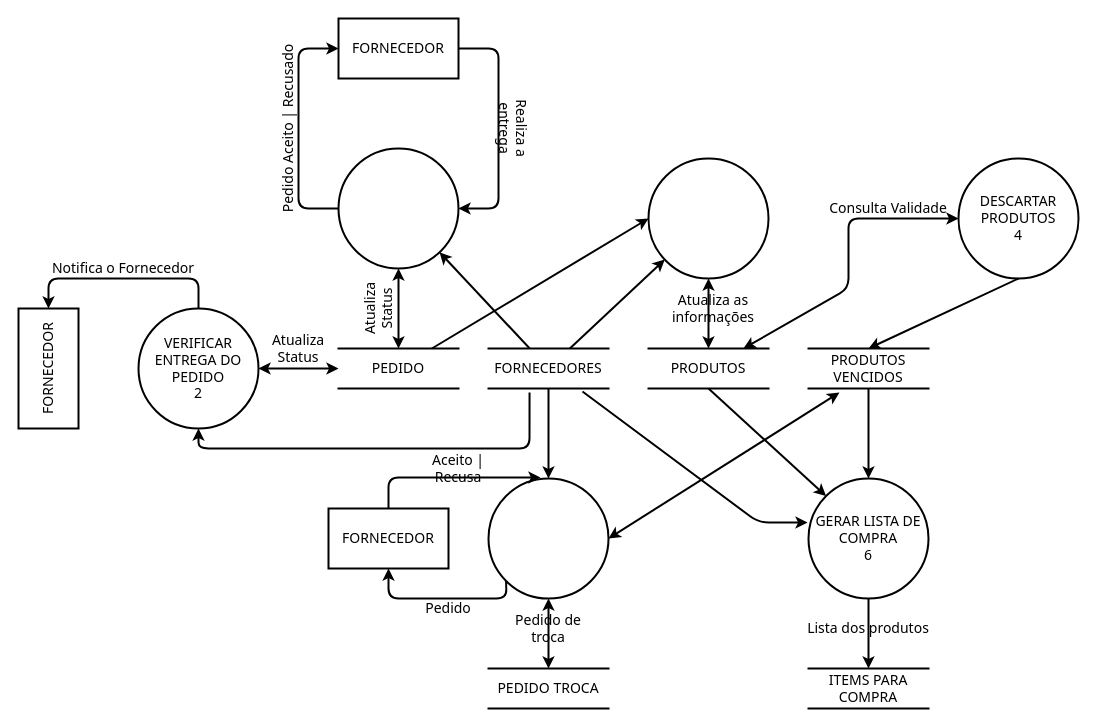
This 1096x726 diagram has some shape labels left out. Each missing label, with the centre of its shape:
CHECAR PEDIDO 1: [398,208]
GERAR PEDIDO DE TROCA 5: [548,538]
GERENCIAR PRODUTOS 3: [708,218]
